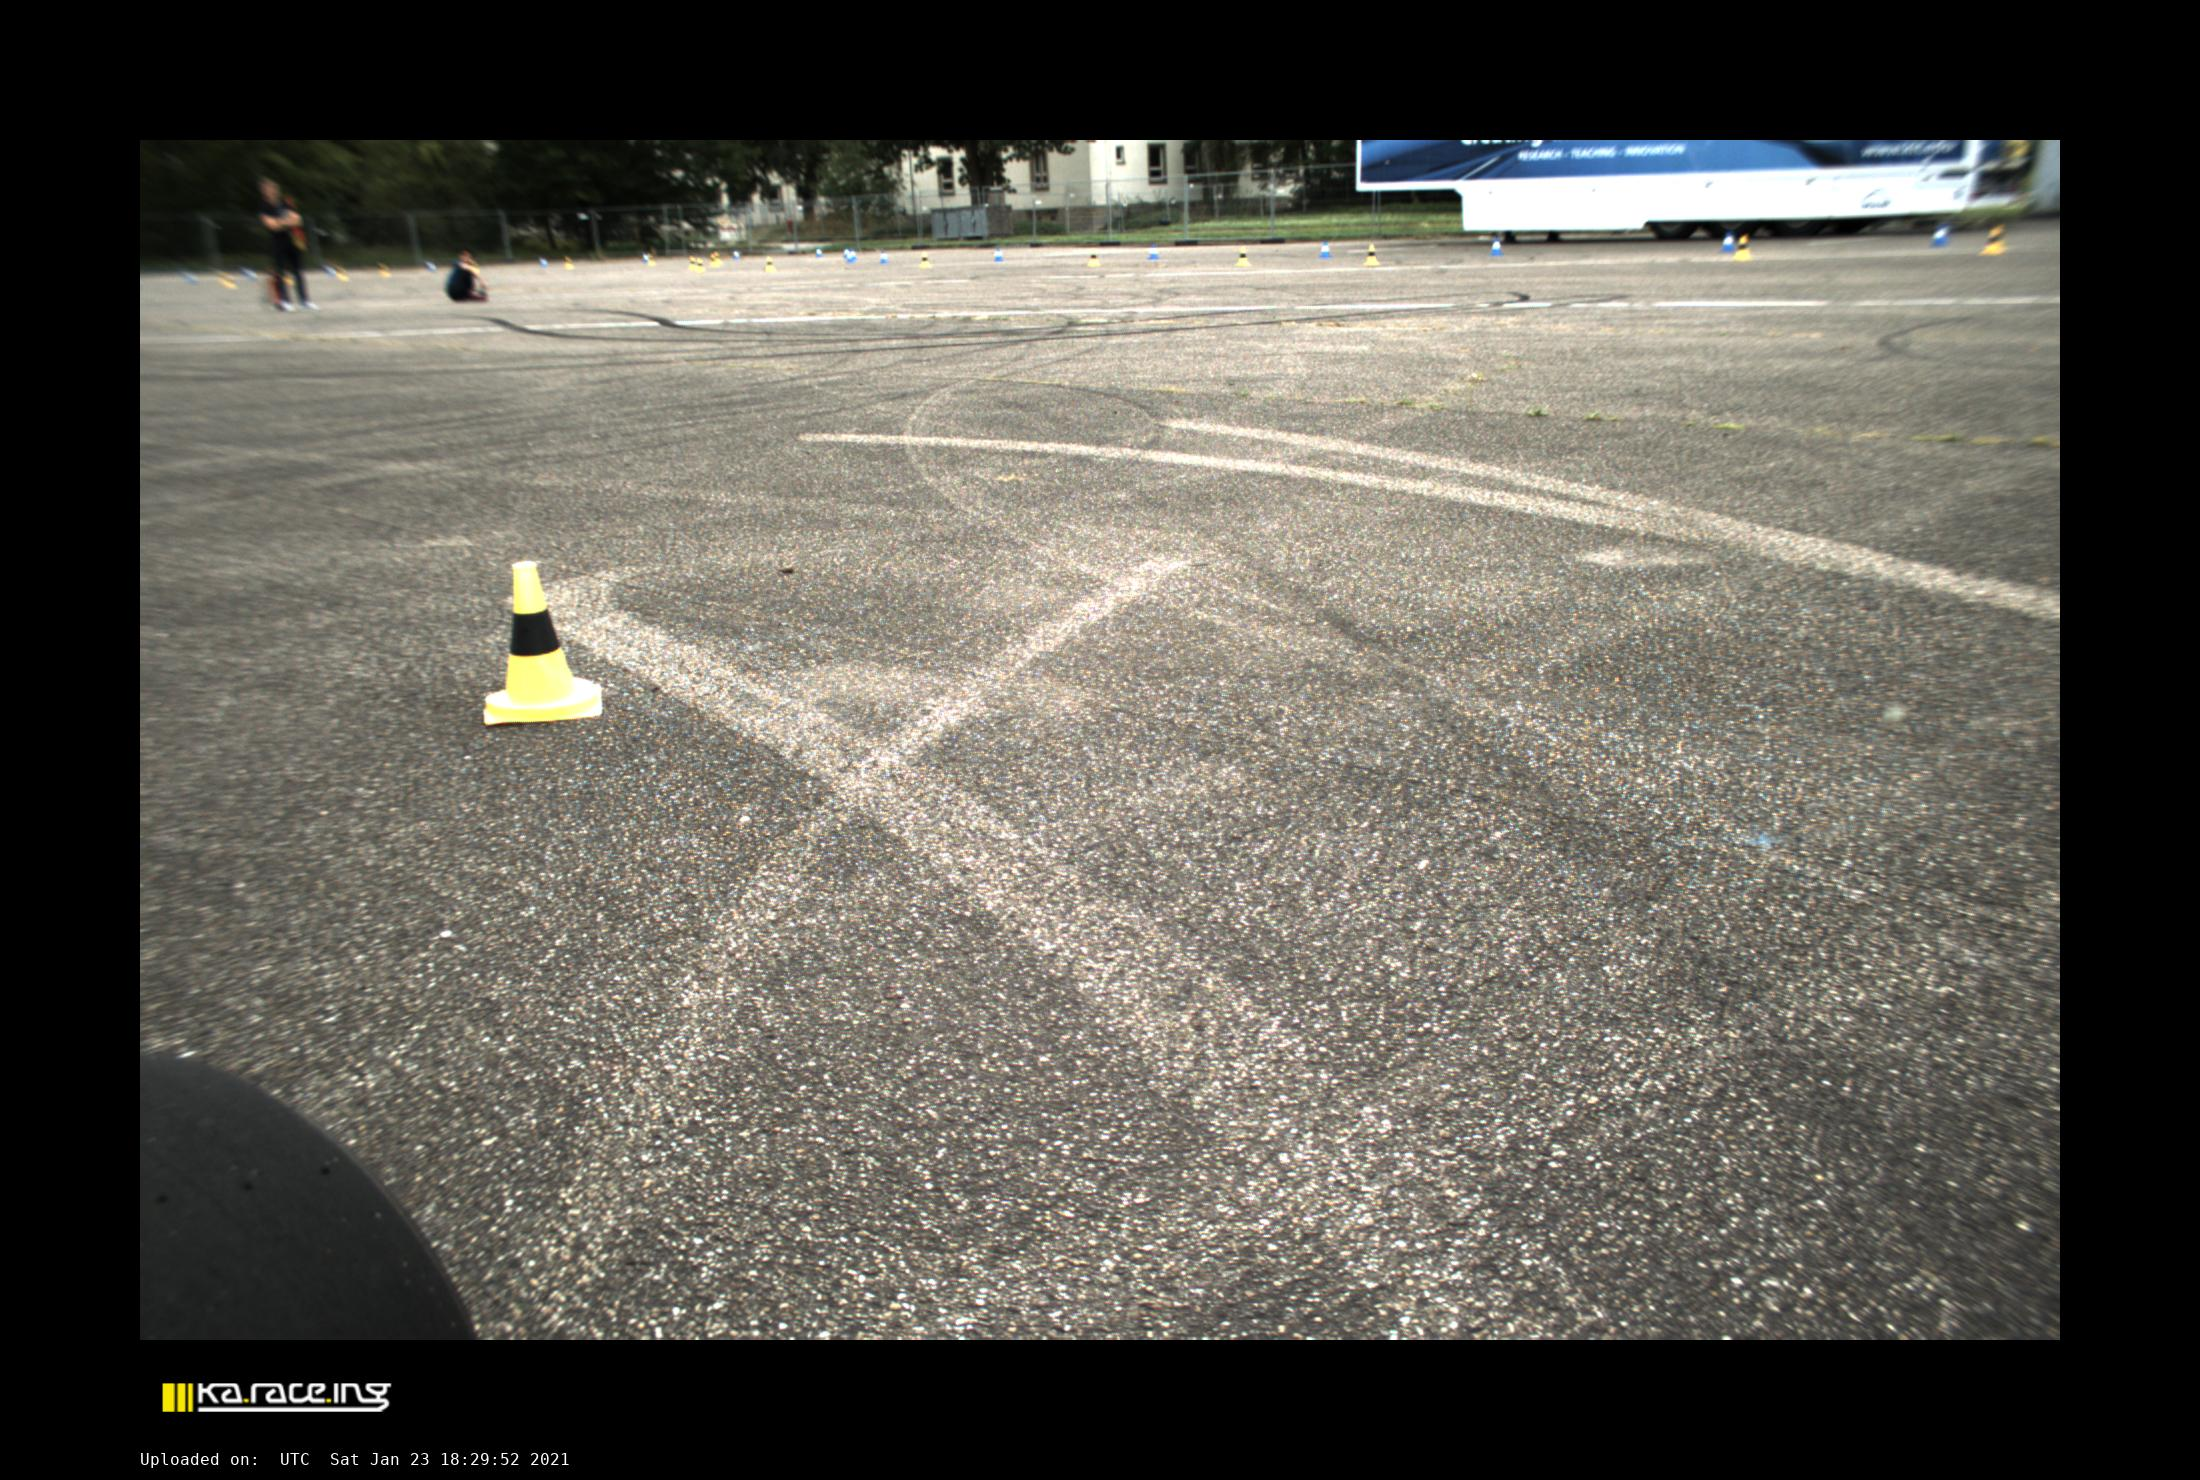blue_cone: (1929, 221, 1951, 248), (182, 269, 200, 286), (1723, 231, 1734, 251), (1490, 238, 1503, 254), (1320, 240, 1331, 258), (243, 268, 258, 281), (424, 259, 438, 273), (1148, 244, 1159, 259), (324, 264, 335, 277), (879, 249, 889, 264), (732, 248, 742, 259), (538, 256, 548, 268), (994, 248, 1003, 261), (846, 249, 854, 263), (814, 246, 823, 258), (851, 248, 857, 261), (842, 248, 849, 259), (642, 251, 647, 264)
yellow_cone: (484, 562, 601, 723), (1979, 223, 2007, 254), (1733, 236, 1752, 259), (218, 271, 238, 291), (1363, 244, 1381, 264), (1235, 248, 1252, 266), (335, 266, 350, 282), (377, 263, 391, 277), (1088, 248, 1100, 266), (918, 253, 932, 268), (765, 256, 776, 273), (695, 258, 705, 273), (565, 254, 575, 269), (714, 251, 723, 264), (710, 253, 718, 268), (647, 254, 656, 268), (689, 256, 695, 269)
